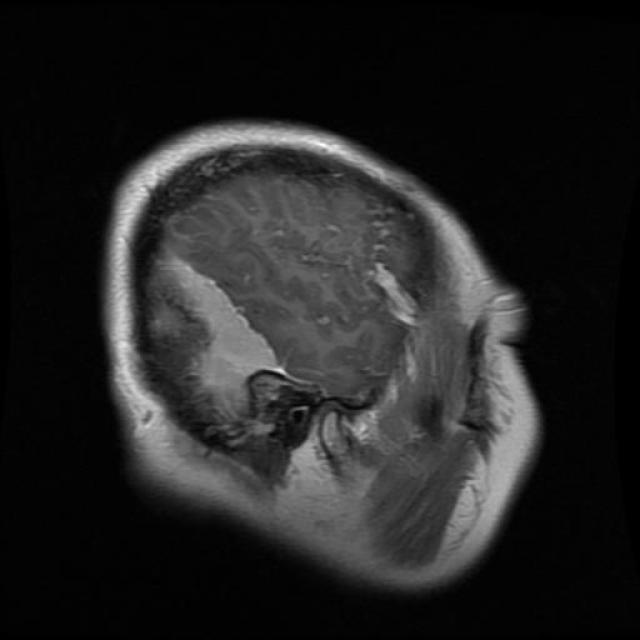meningioma: (158, 260, 282, 439)
